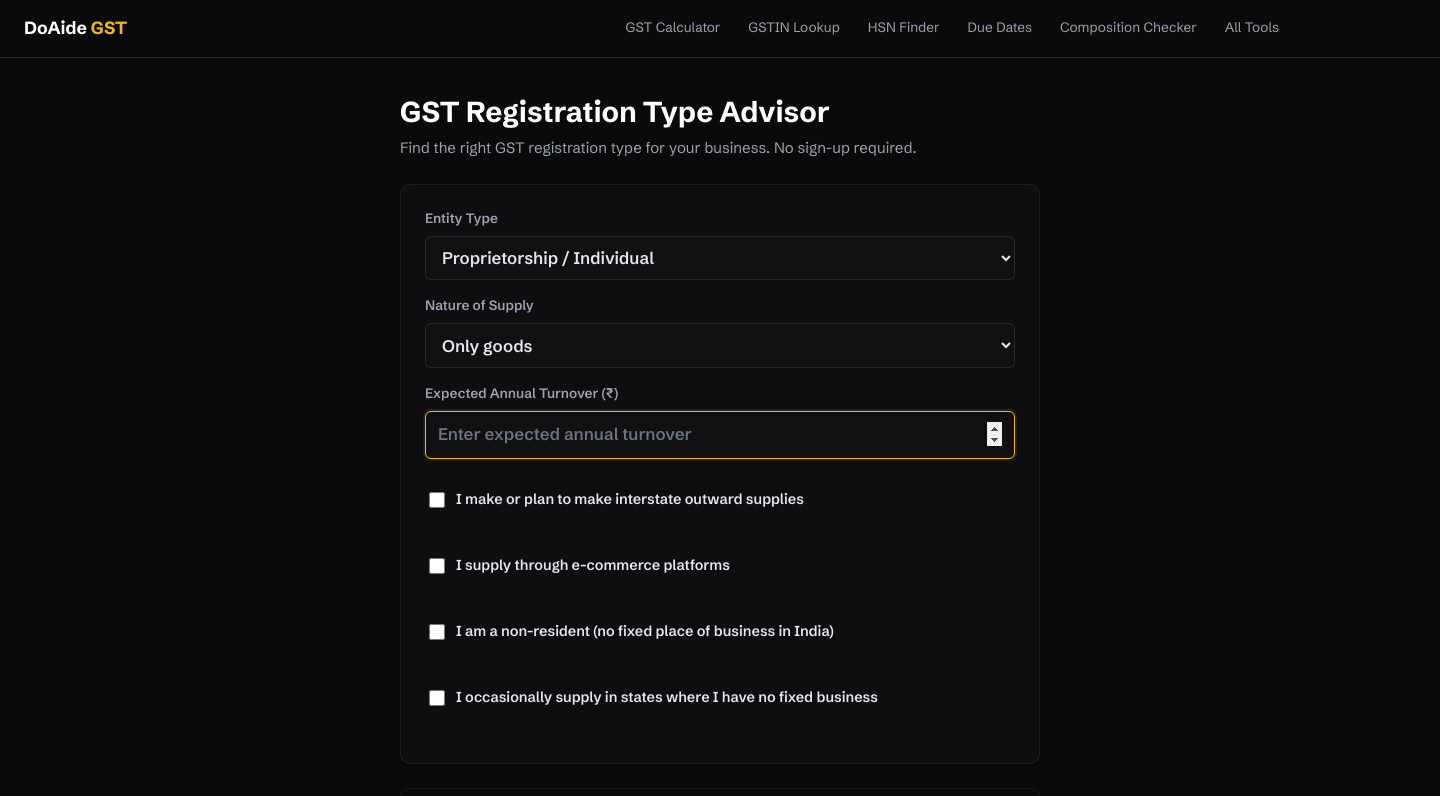
RegistrationTypeAdvisorPage › disqualifies composition for interstate supplier
Click the checkbox labelled "I make or plan to make interstate outward supplies" at (437, 500), box [429,478,445,522]
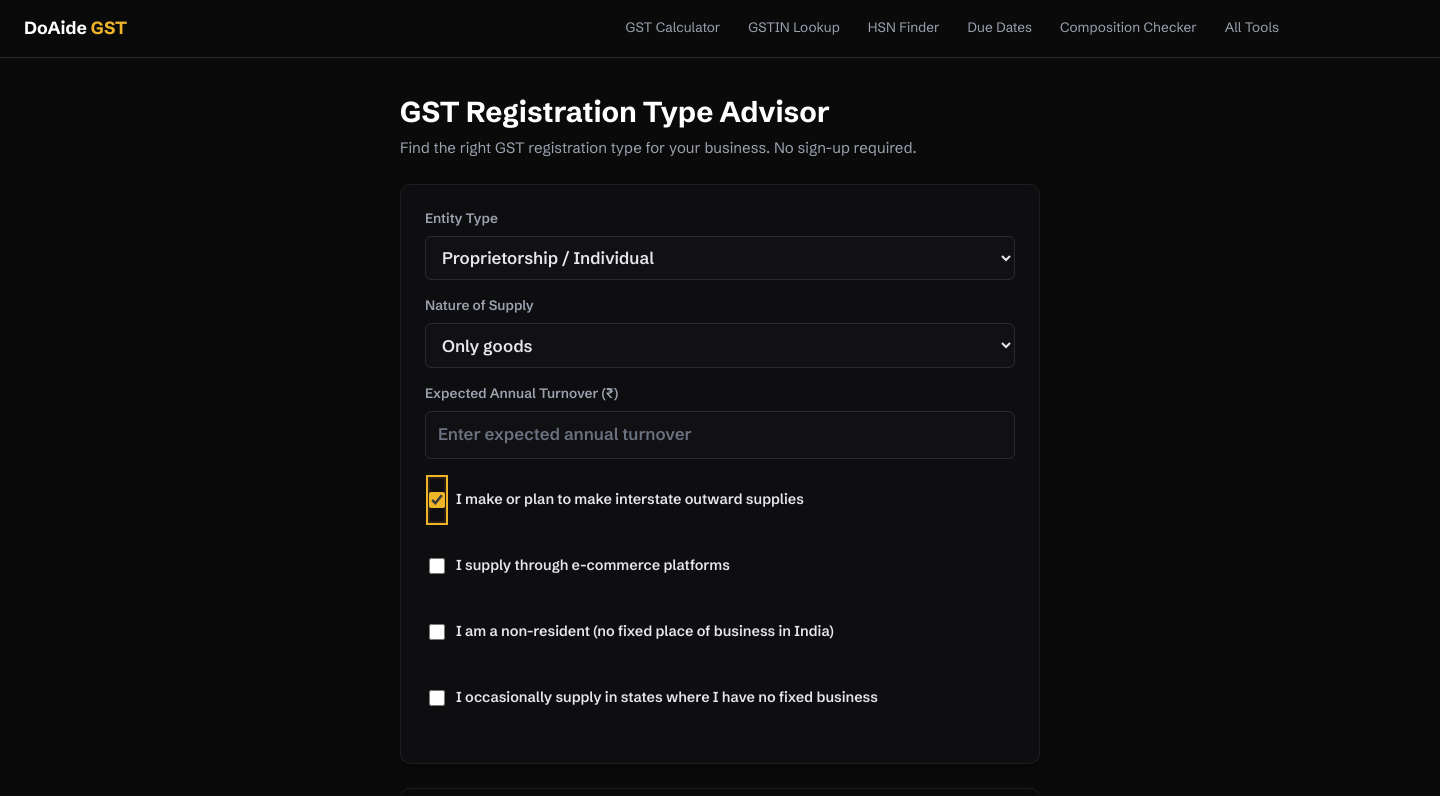
Type "5000000" into the number field with placeholder "Enter expected annual turnover" at (720, 435), box [425,411,1015,459]
(page scrolled)
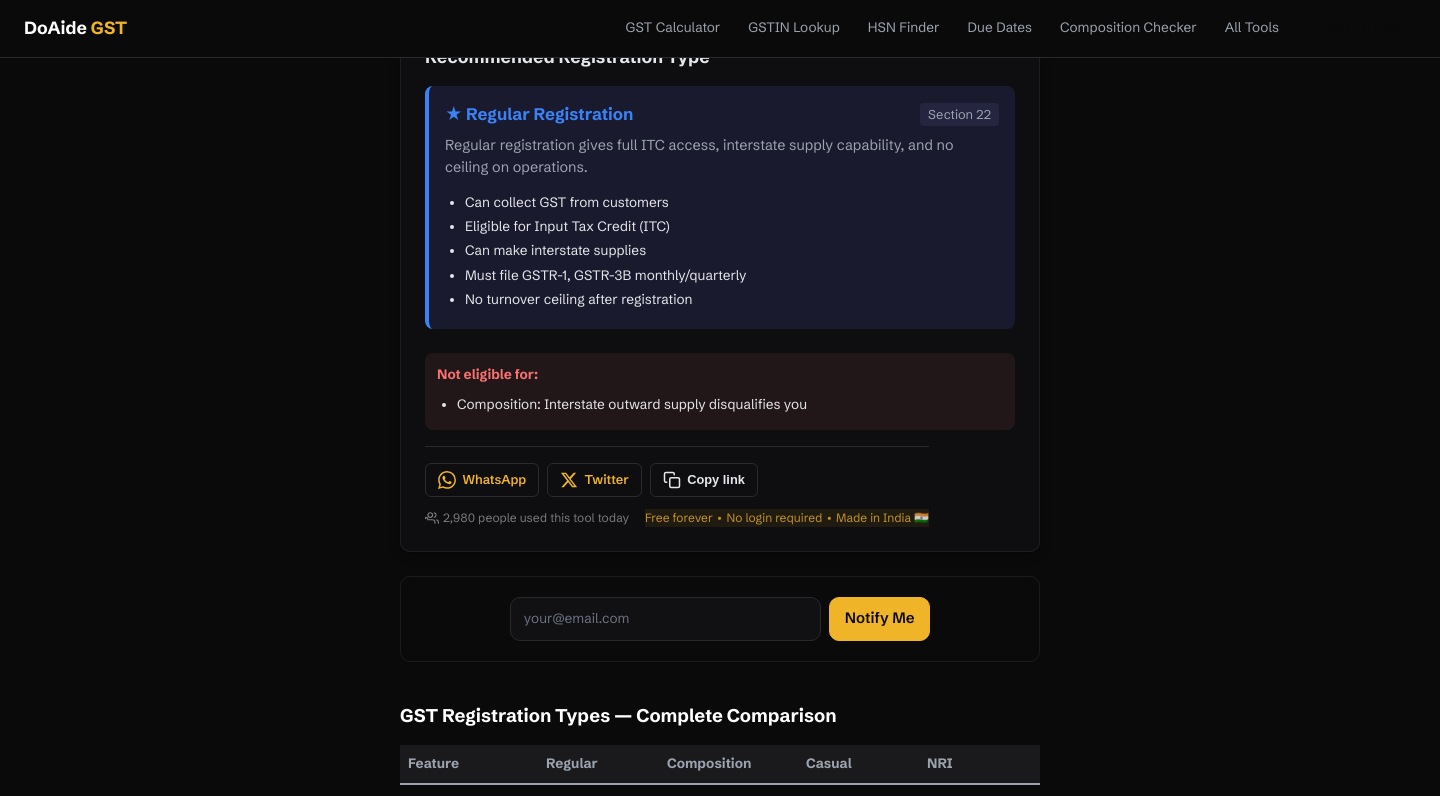
Check: the list item "Composition: Interstate outward supply disqualifies you" is shown, box [457,396,807,413]
